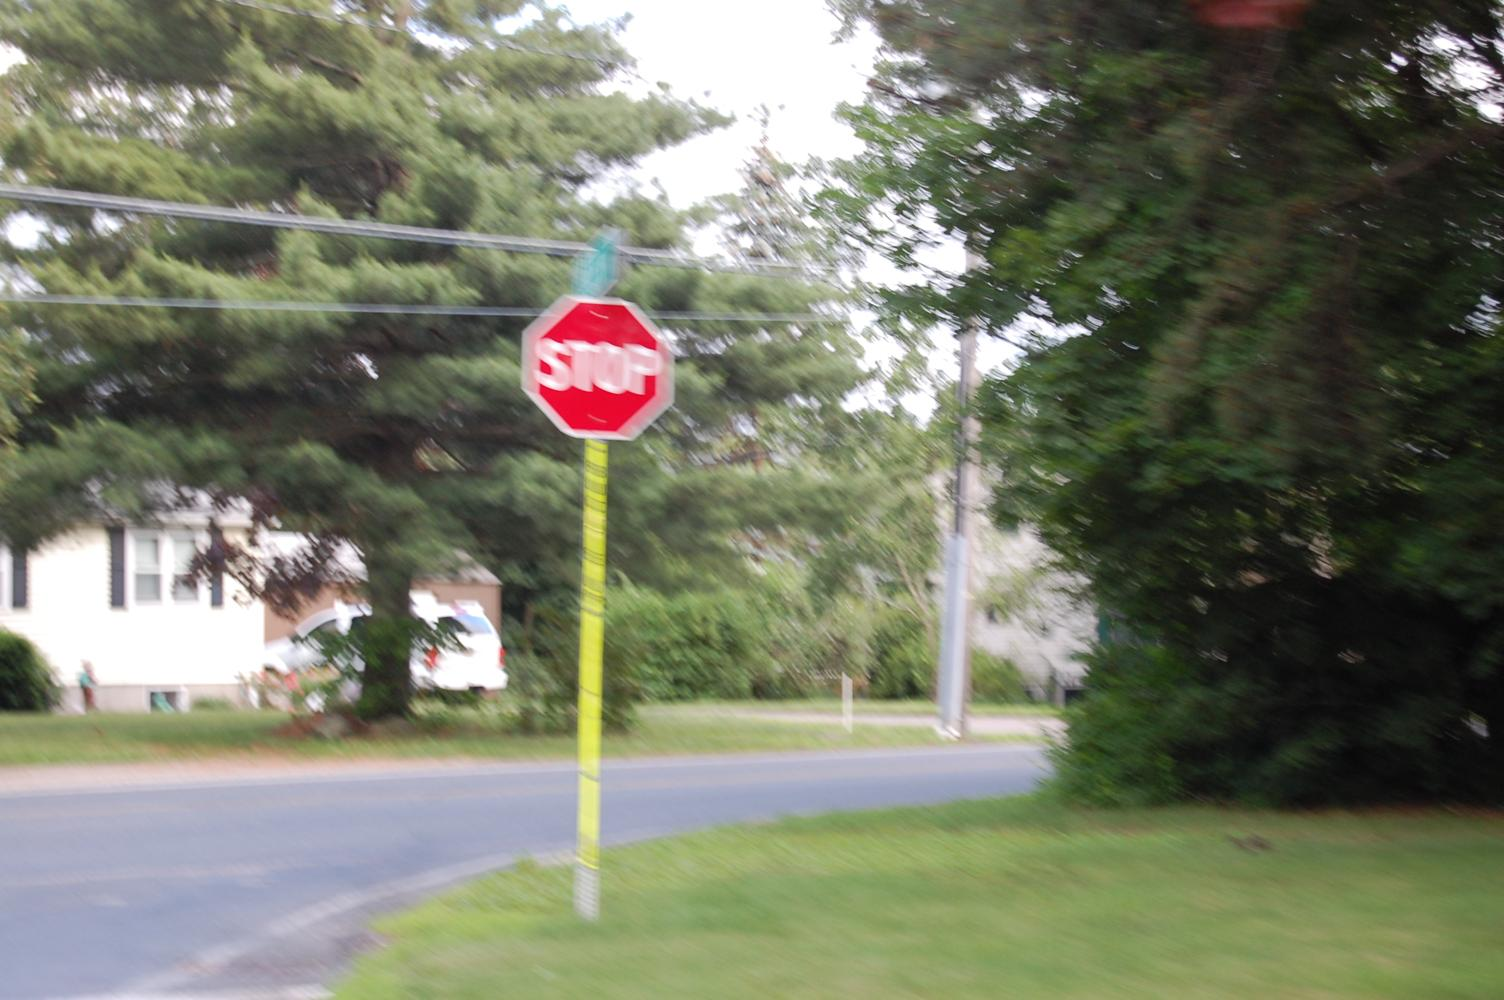stop: (522, 287, 678, 443)
